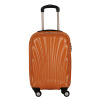luggage: (29, 3, 71, 100)
